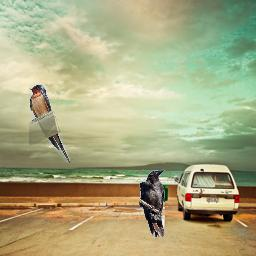Crow: (139, 169, 165, 237)
Swallow: (29, 84, 70, 163)
